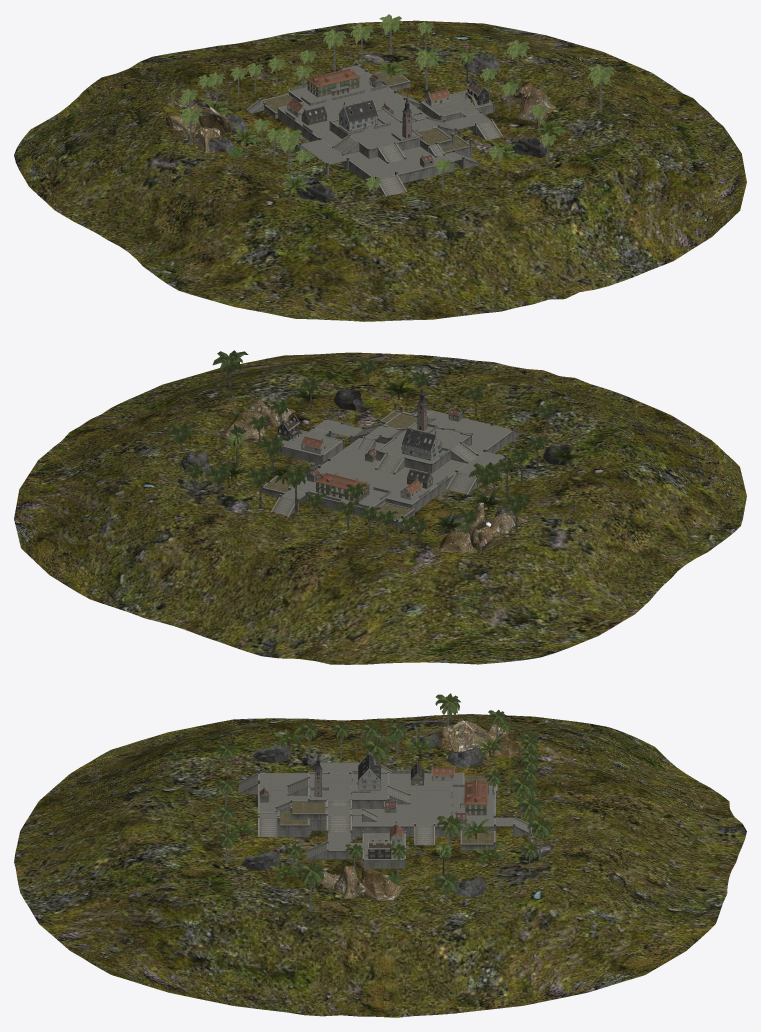
File: clocktower.glb
The picture shows the model from 3 angles, top to bottom: view 1: azimuth 30°, elevation 25°; view 2: azimuth 150°, elevation 25°; view 3: azimuth 270°, elevation 25°; orthographic projection. The views are drawn at different scales.
Parts seen in each view (by area): view 1: Plane_37, Base_02_LOD0_0_0, Cube.001_39, mansion_LOD0_2_3, mansion_LOD0_3_4, Mesh_0014.rip.003_71, Cube.004_42, Mesh_0014.rip.004_72; view 2: Plane_37, Base_02_LOD0_0_0, Cube.005_43, Cube_38, Mesh_0004.rip.021_81, Mesh_0014.rip.003_71; view 3: Plane_37, Base_02_LOD0_0_0, Cube.001_39, Cube.005_43, Cube.004_42, Mesh_0004.rip.021_81, mansion_LOD0_2_3, Mesh_0014.rip.001_69, Mesh_0014.rip.003_71.
Boxes of the visible parts, <box> form: Plane_37: <box>14,20,746,321</box>; Base_02_LOD0_0_0: <box>246,62,502,196</box>; Cube.001_39: <box>198,107,232,134</box>; mansion_LOD0_2_3: <box>306,68,360,95</box>; mansion_LOD0_3_4: <box>307,68,359,97</box>; Mesh_0014.rip.003_71: <box>511,137,549,157</box>; Cube.004_42: <box>519,89,556,114</box>; Mesh_0014.rip.004_72: <box>297,184,334,202</box>; Plane_37: <box>14,352,746,664</box>; Base_02_LOD0_0_0: <box>261,402,523,531</box>; Cube.005_43: <box>216,411,265,440</box>; Cube_38: <box>438,531,474,552</box>; Mesh_0004.rip.021_81: <box>212,350,248,397</box>; Mesh_0014.rip.003_71: <box>333,388,363,410</box>; Plane_37: <box>14,714,746,1017</box>; Base_02_LOD0_0_0: <box>237,760,533,868</box>; Cube.001_39: <box>448,720,493,757</box>; Cube.005_43: <box>360,867,401,901</box>; Cube.004_42: <box>334,866,367,898</box>; Mesh_0004.rip.021_81: <box>296,861,325,911</box>; mansion_LOD0_2_3: <box>460,779,487,808</box>; Mesh_0014.rip.001_69: <box>446,747,485,767</box>; Mesh_0014.rip.003_71: <box>240,851,280,870</box>.
Size of the model in its own units: 273 by 45.38 by 280.
91 materials, 90 textured.
